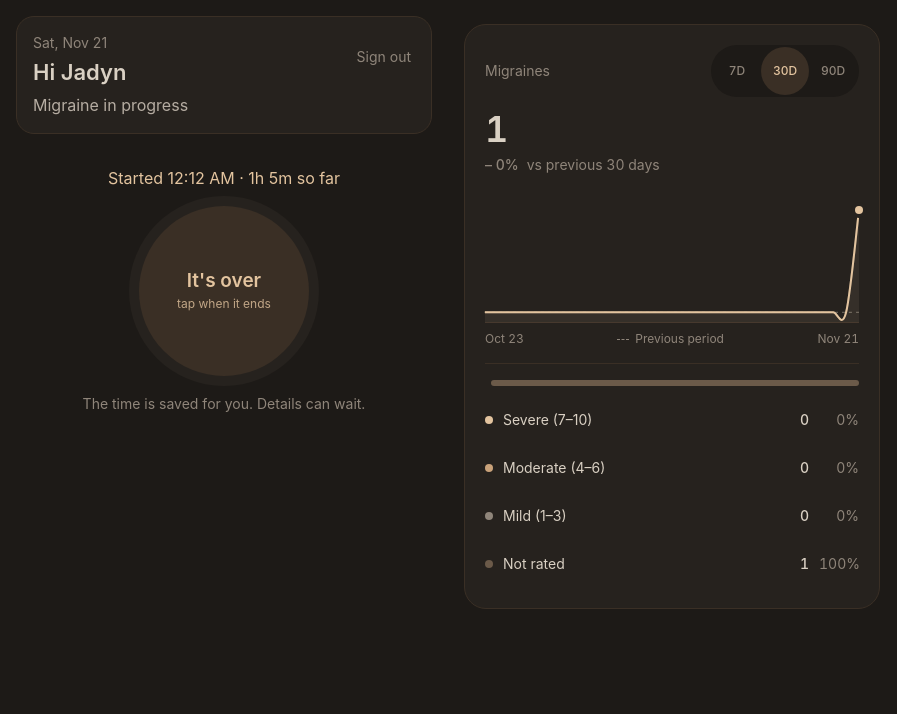
it: after ending, the confirmation shows the duration
Click the button "It's over tap when it ends".
click(224, 290)  # box [139,206,309,376]
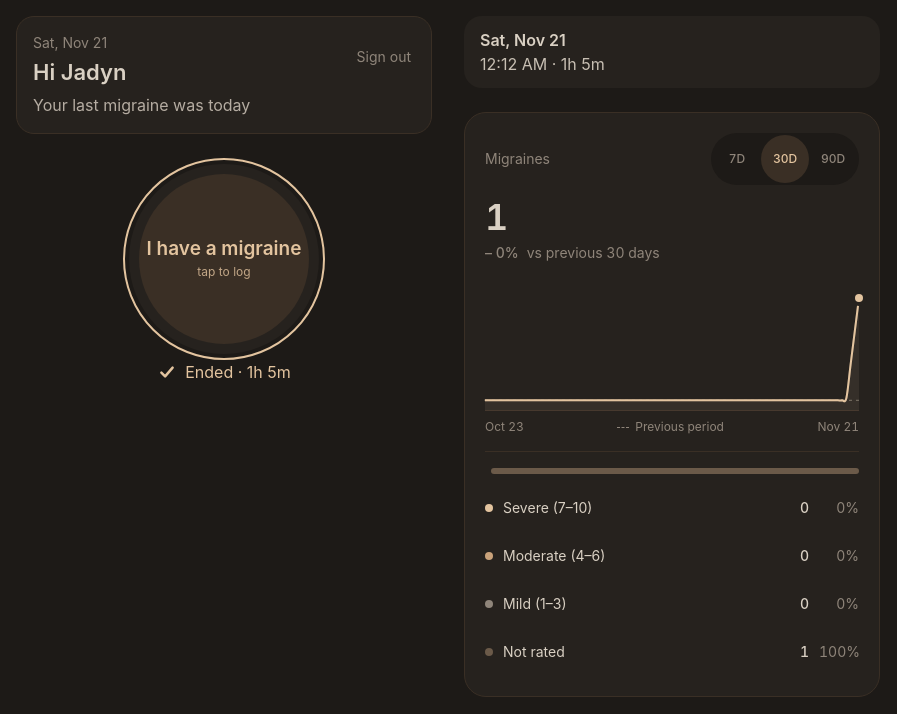
Now the message reads "Ended · 1h 5m", box [185,362,291,382]
